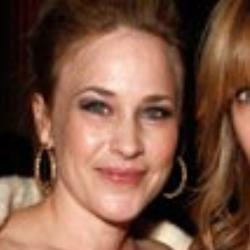face: (14, 1, 196, 227)
